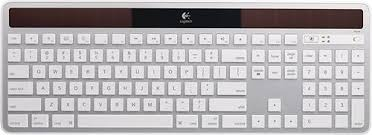keyboard: (4, 7, 366, 129)
